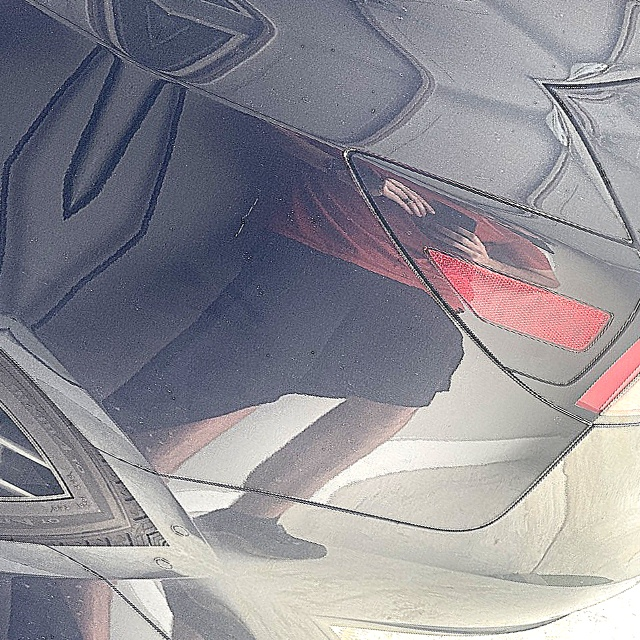reflector: (407, 225, 615, 372)
